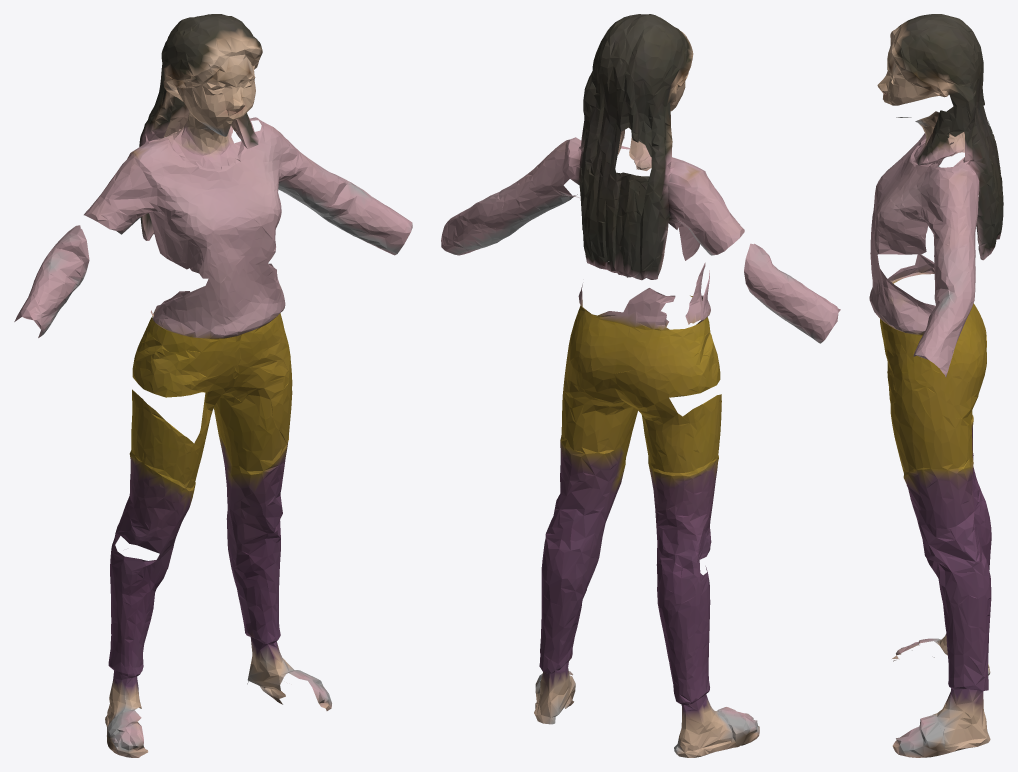
The model's file is mom.glb.
3 views of the same model, side by side, from view 1: azimuth 30°, elevation 25°; view 2: azimuth 150°, elevation 25°; view 3: azimuth 270°, elevation 25° (orthographic). The views are drawn at different scales.
Parts seen in each view (by area): view 1: geometry_0; view 2: geometry_0; view 3: geometry_0.
Boxes of the visible parts, x1,y1,x2,y2 form: geometry_0: (14,14,412,757); geometry_0: (441,14,840,757); geometry_0: (869,14,1003,757).
Size of the model in its own units: 0.5878 by 1 by 0.1765.
